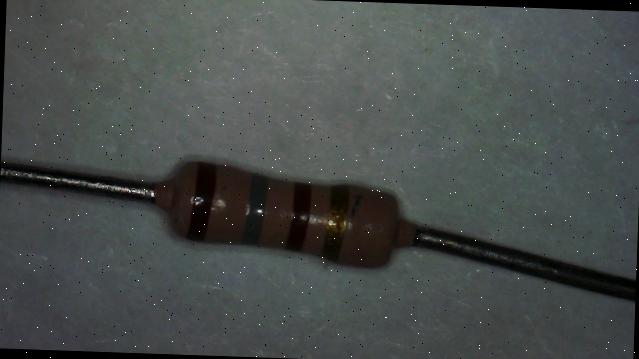brown: (185, 162, 216, 240), (286, 182, 311, 250)
gold: (320, 184, 348, 262)
grey: (241, 175, 268, 244)
resistor: (140, 124, 435, 297)
